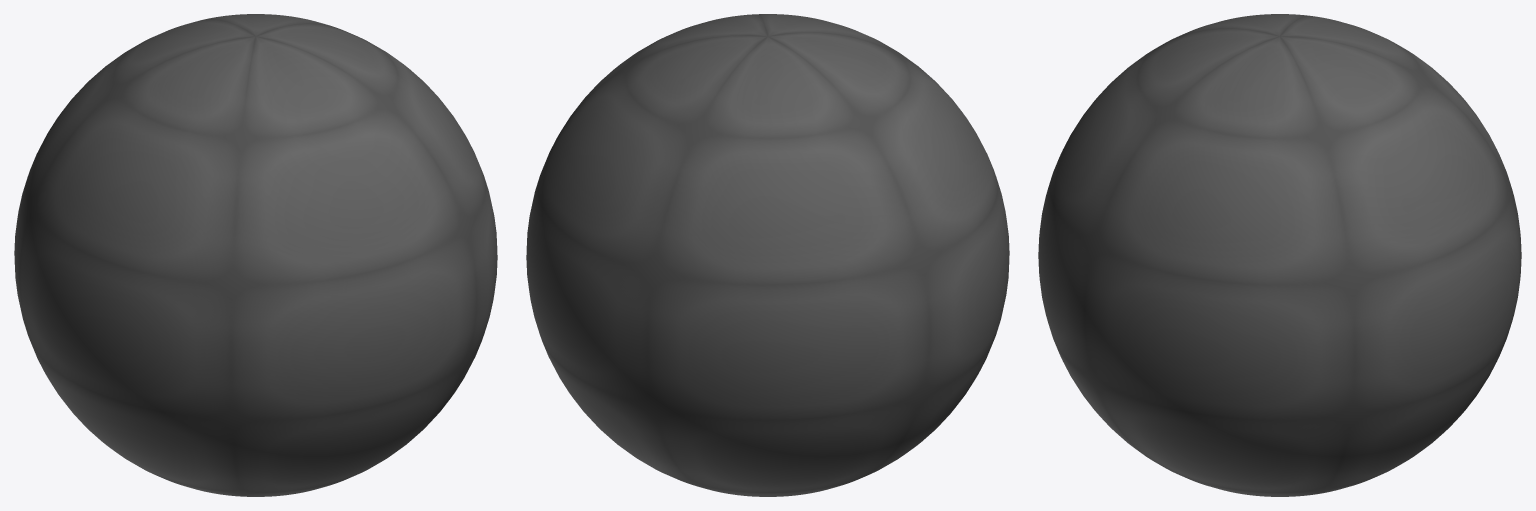
Rendered from smooth_sphere_80.obj.
The picture shows the model from 3 angles, left to right: view 1: azimuth 30°, elevation 25°; view 2: azimuth 150°, elevation 25°; view 3: azimuth 270°, elevation 25°; orthographic projection.
Parts seen in each view (by area): view 1: Sphere001; view 2: Sphere001; view 3: Sphere001.
Boxes of the visible parts, x1=… form: Sphere001: x1=14, y1=14, x2=497, y2=496; Sphere001: x1=526, y1=14, x2=1009, y2=496; Sphere001: x1=1038, y1=14, x2=1521, y2=496.
Size of the model in its own units: 1.96 by 1.96 by 1.96.
